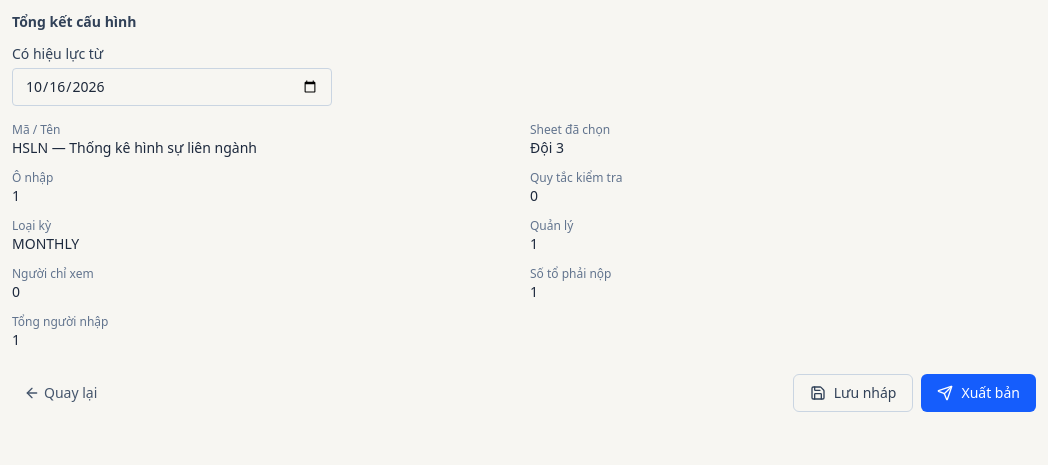
Test: ReportSummaryStep › reuses the SAME idempotency key across a retry after a failed attempt
The width and height of the screenshot is (1048, 465).
Step 1. Click the button with test id "btn-publish" → x=979, y=393, box [922,374,1036,412]
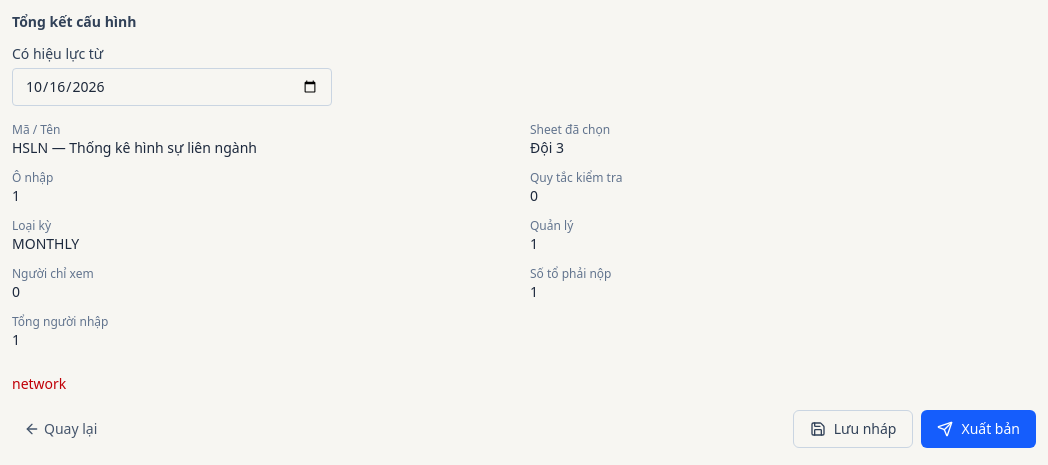
Result: the text "network" is shown at [12,374,66,393]
Step 2. Click the button with test id "btn-publish" → x=979, y=429, box [922,410,1036,448]
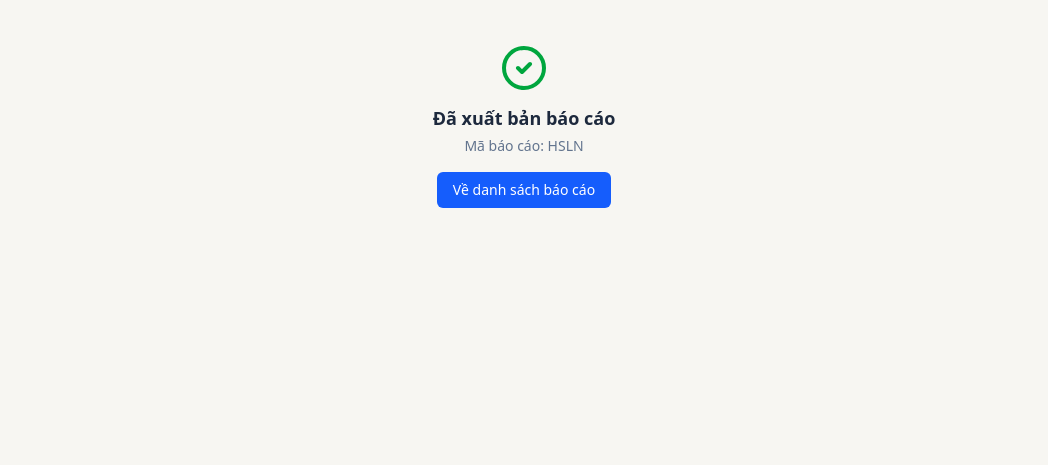
Result: the element with test id "summary-result" is shown at [433,44,615,208]
